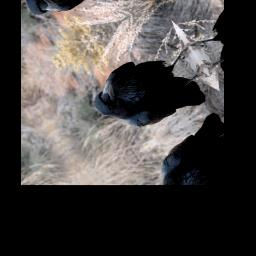Crow: (82, 28, 221, 155)
